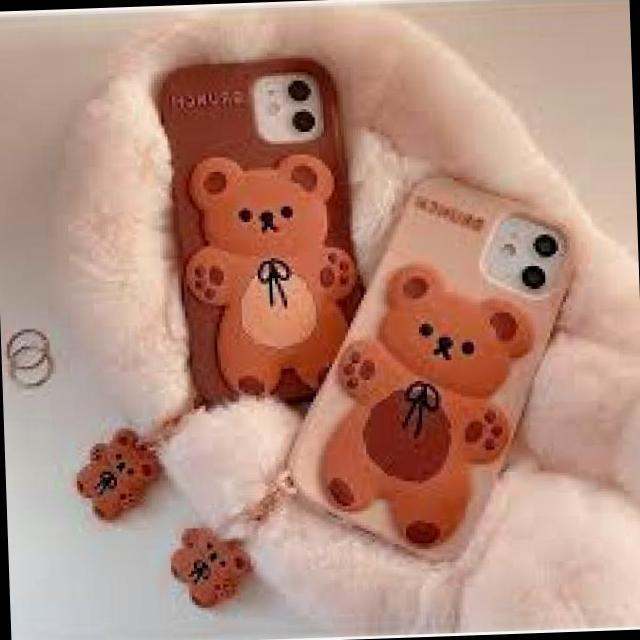lens: (500, 219, 566, 293), (257, 74, 322, 136)
phone: (278, 175, 589, 564), (171, 50, 348, 402)
